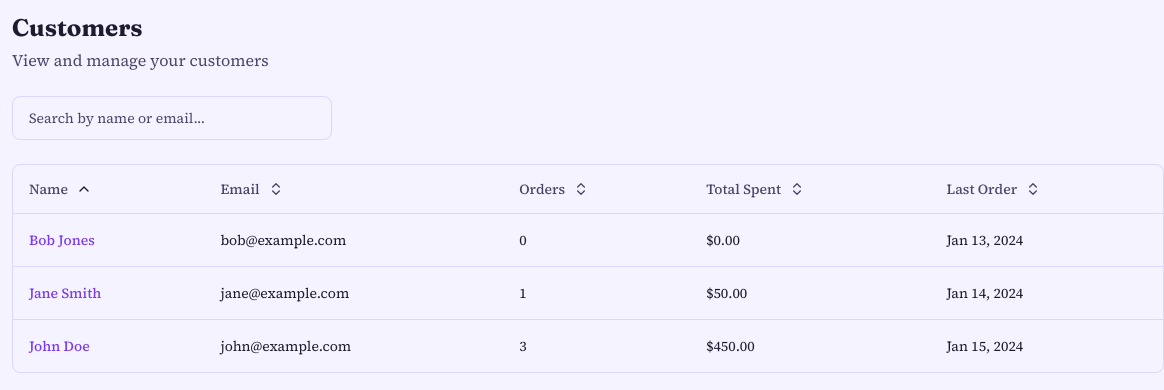
Test: CustomersPage › filters customers by search query
Step 1. Type "Jane" into the field with placeholder "Search by name or email..." → (172, 118), box top-left (12, 96), bottom-right (332, 140)
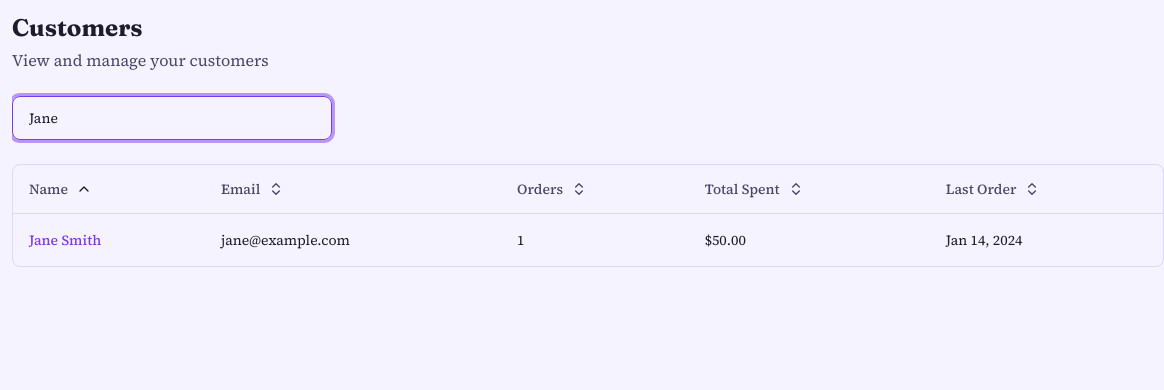
Expected: the link "Jane Smith" is shown, top-left (29, 230), bottom-right (101, 250)
Expected: the link "John Doe" is gone
